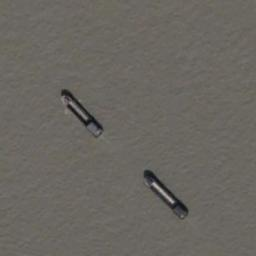boat: (142, 170, 189, 219), (59, 90, 103, 137)
